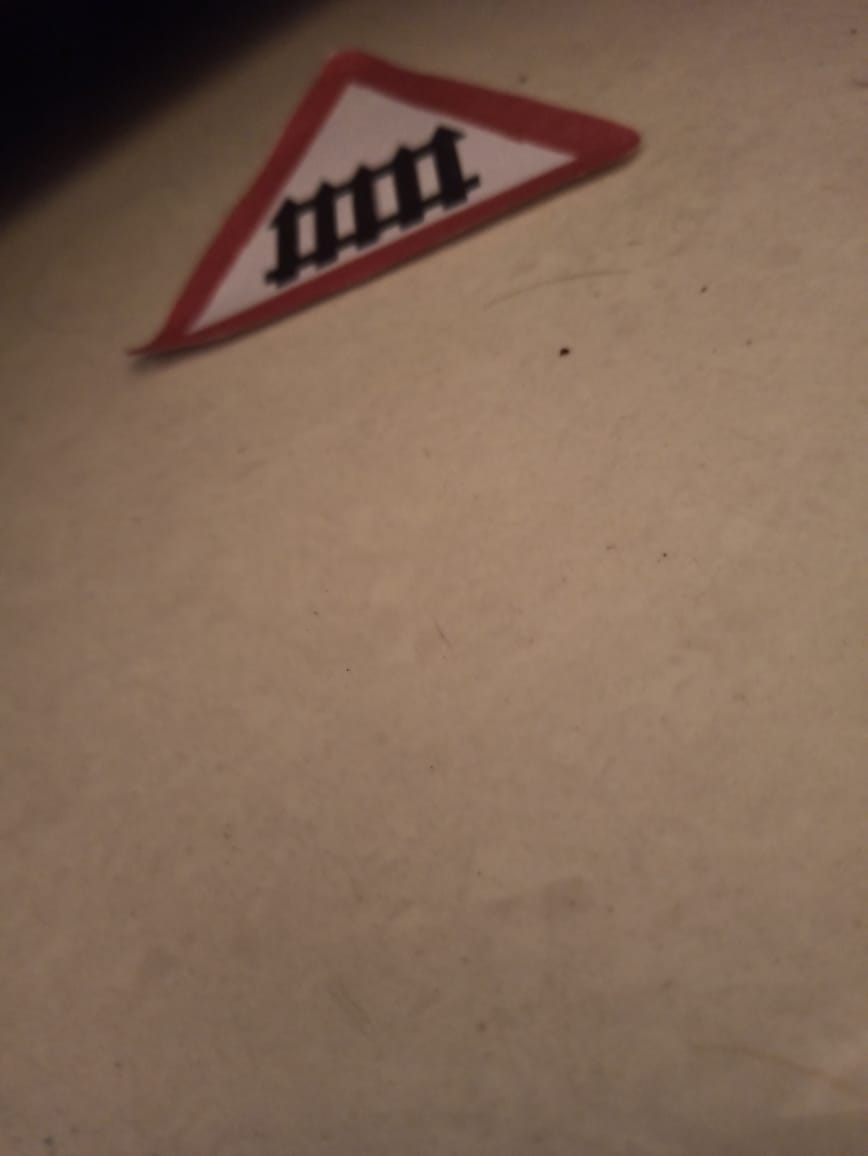GUARDED LEVEL CROSSING: (137, 39, 676, 381)
